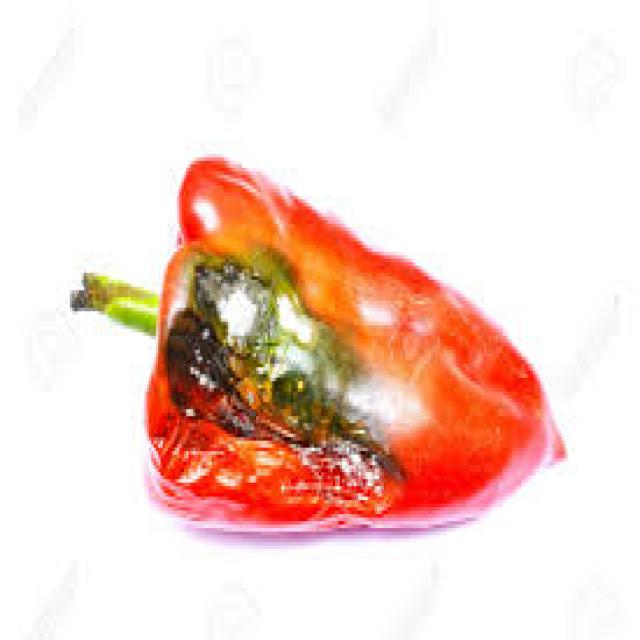organic waste: (70, 150, 563, 532)
